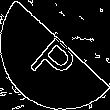P_NE: (26, 24, 84, 86)
